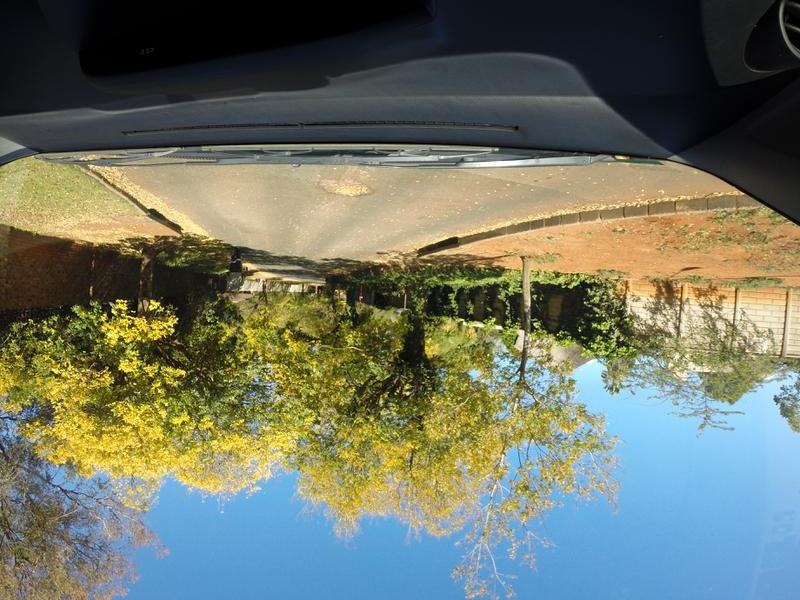pothole: (317, 179, 372, 193)
